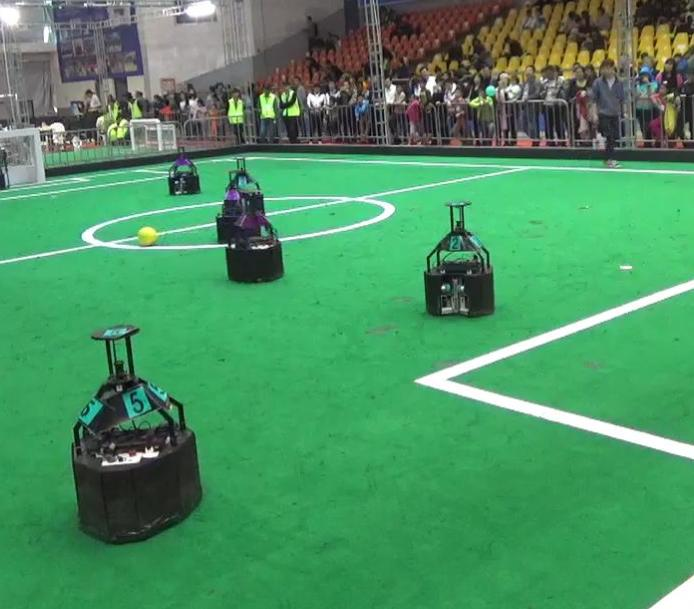robot: (57, 319, 212, 545), (418, 198, 503, 318), (222, 187, 287, 289), (162, 143, 202, 198)
